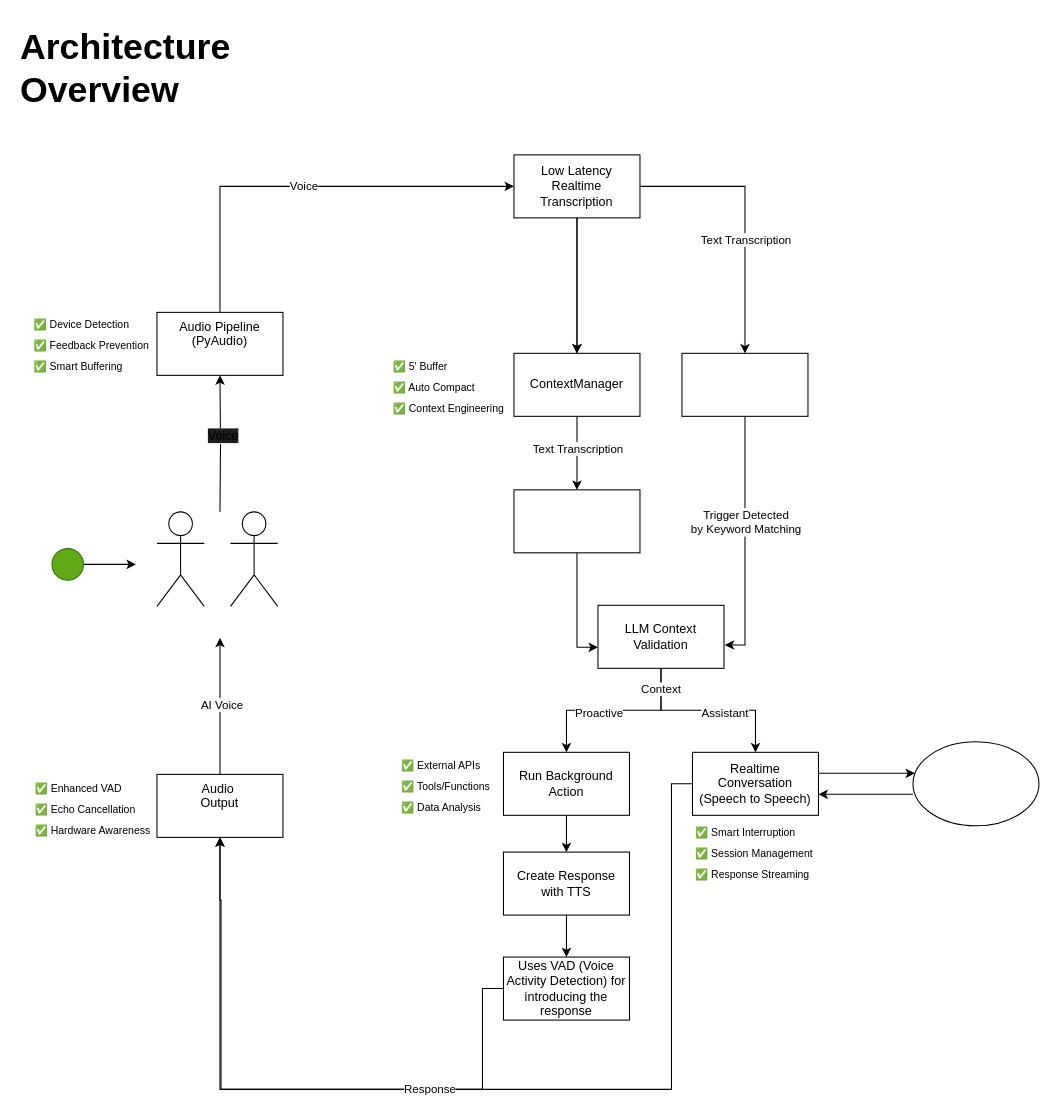
This 1057x1116 diagram has some shape labels left out. Each missing label, with the centre of its shape:
ContextPool: (x=576, y=521)
Tools / MCP Server: (x=975, y=783)
TriggerManager: (x=744, y=384)
Users Speaking: (x=253, y=558)
